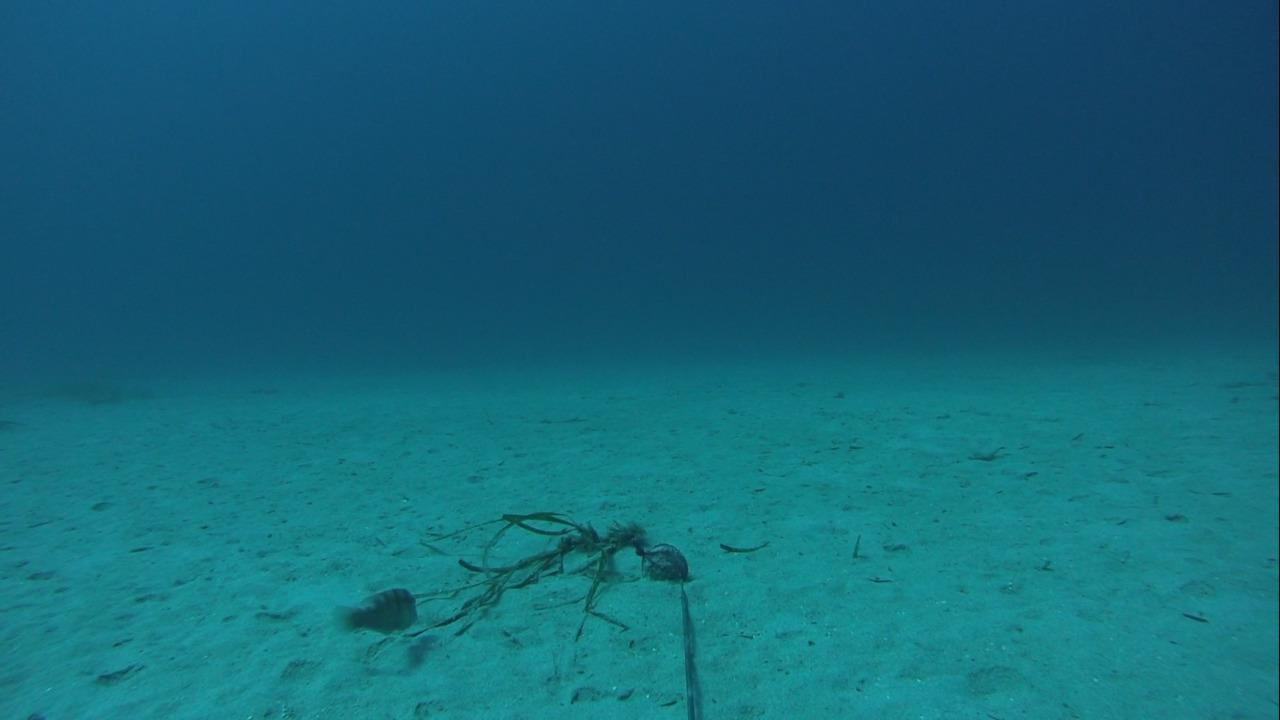raor: (328, 582, 423, 640)
